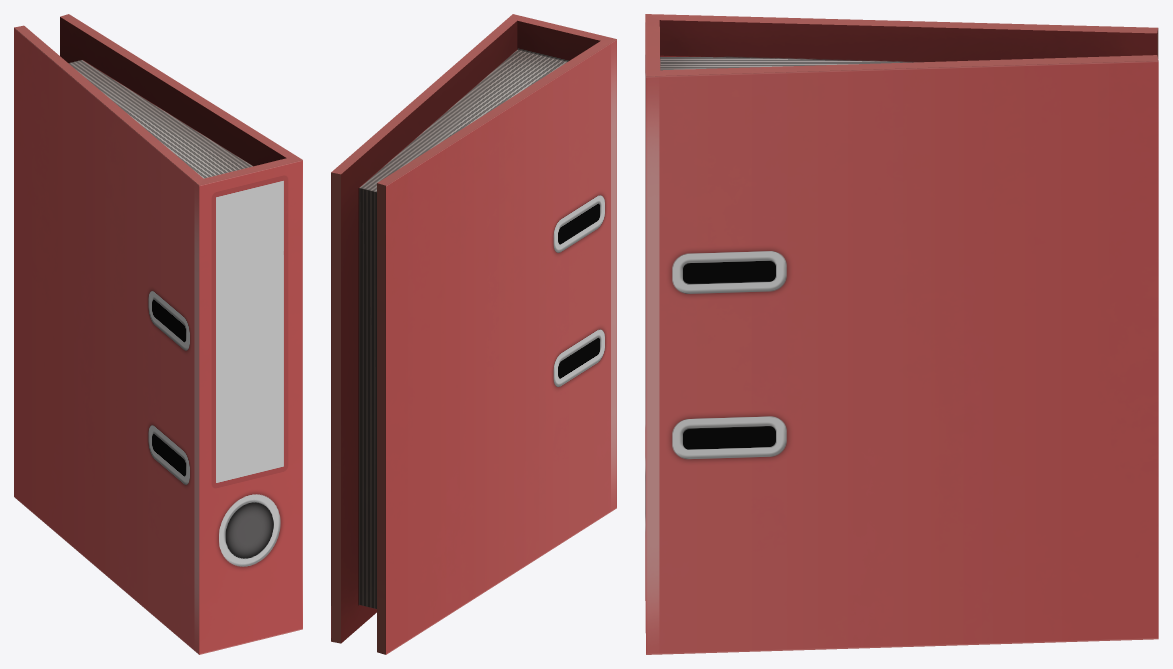
File: binder.fbx
3 renders of one model, left to right at view 1: azimuth 30°, elevation 25°; view 2: azimuth 150°, elevation 25°; view 3: azimuth 270°, elevation 25°, orthographic. The views are drawn at different scales.
Parts seen in each view (by area): view 1: binder; view 2: binder; view 3: binder.
Boxes of the visible parts, x1,y1,x2,y2 form: binder: (14,14,302,654); binder: (331,14,616,654); binder: (645,14,1158,654).
Bounding box in the file's own units: 3.16 × 13.65 × 10.98.
